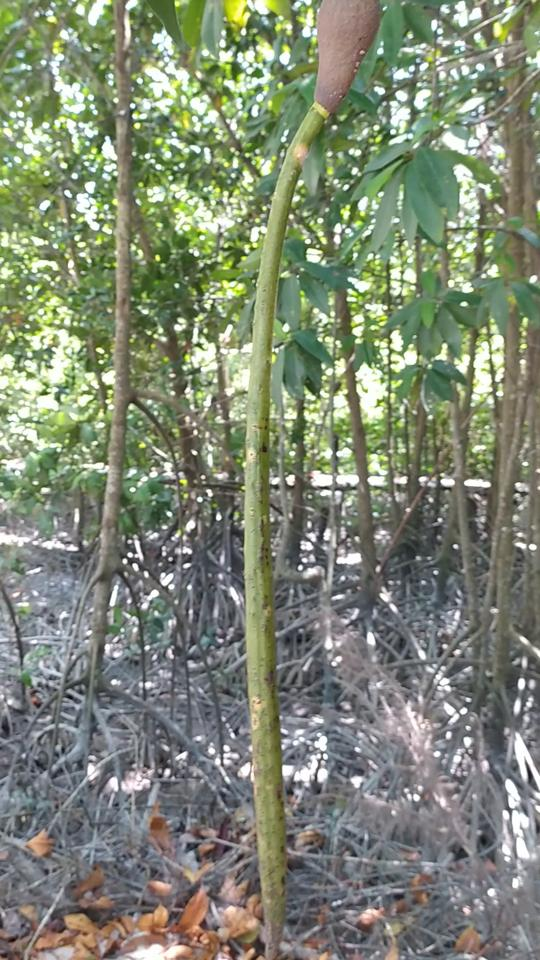setengah matang: (230, 1, 389, 959)
